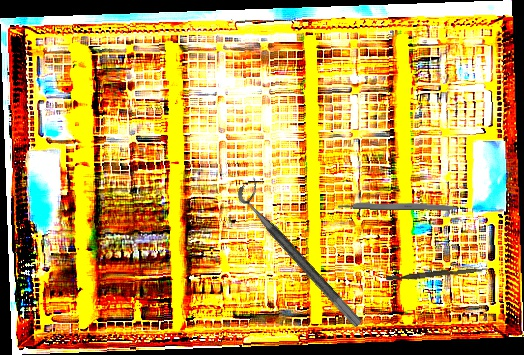Fixation Ring: (232, 176, 375, 329)
Pusher: (385, 263, 490, 284)
Scalpel Handle: (337, 200, 460, 212)
